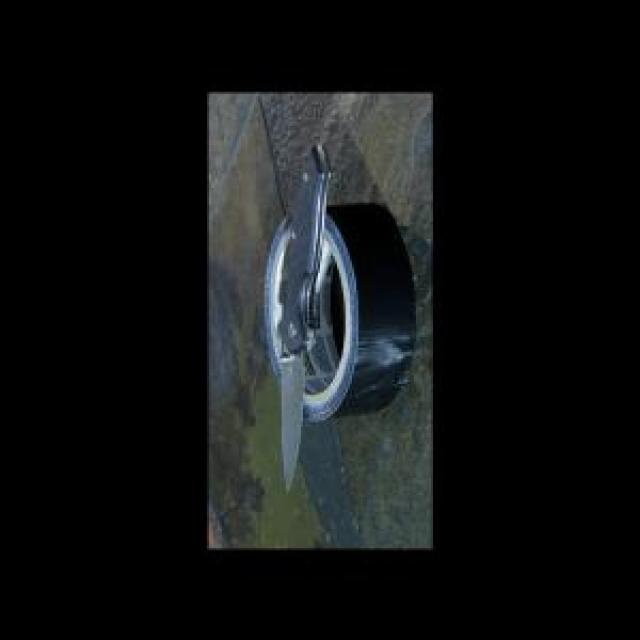knife: (277, 141, 333, 496)
